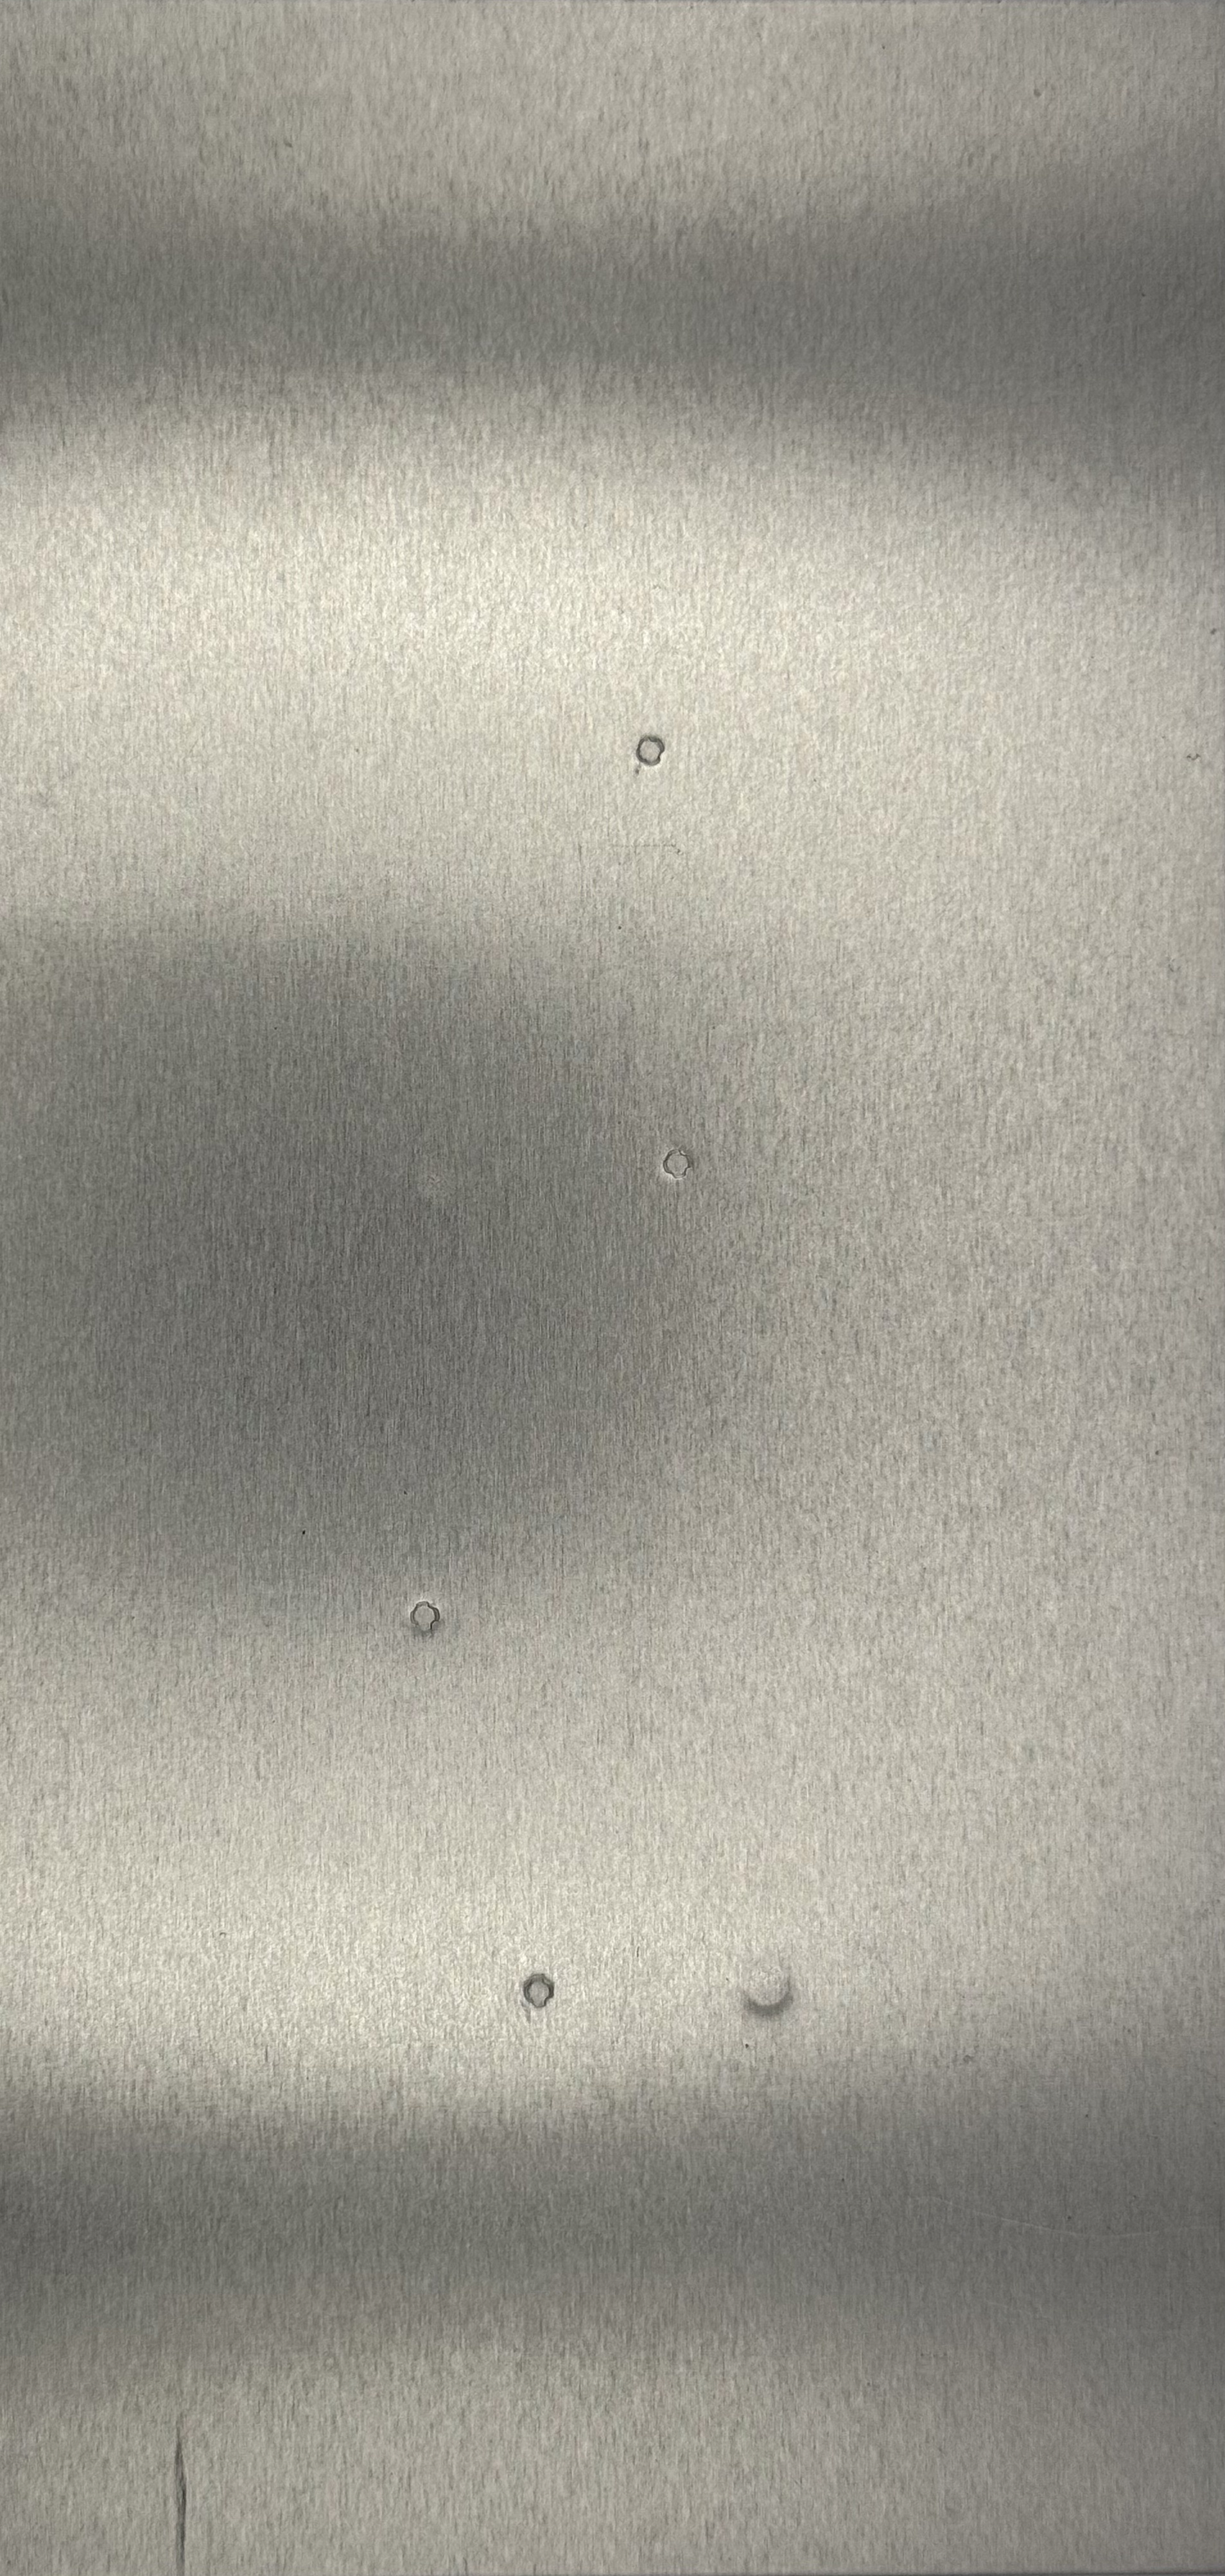Delle: (389, 1138, 494, 1240), (713, 1935, 818, 2027), (494, 1960, 580, 2022), (391, 1582, 458, 1653), (645, 1130, 713, 1198), (621, 720, 680, 782)
